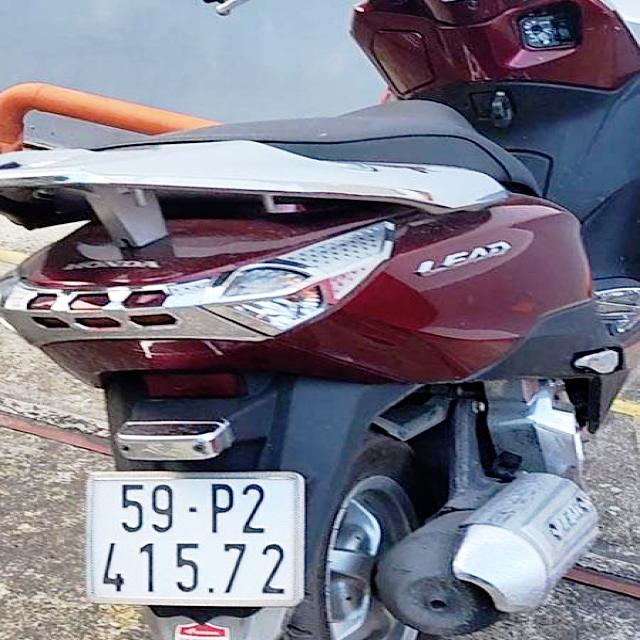license_plate: (91, 475, 304, 605)
